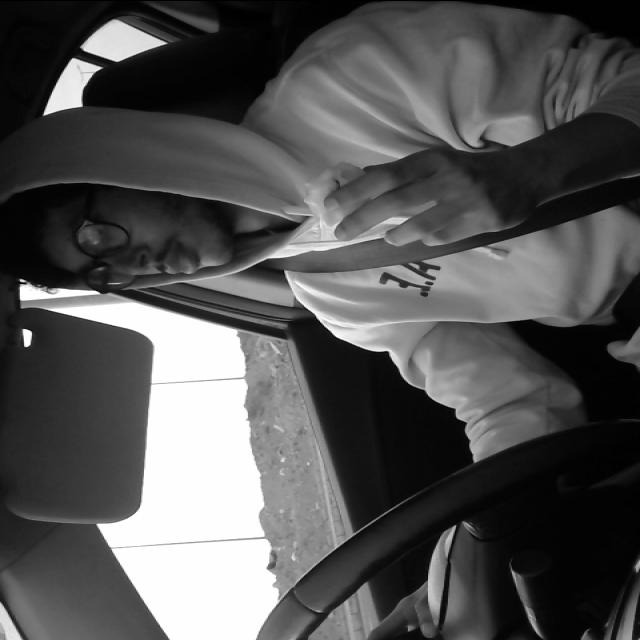eating: (290, 157, 376, 227)
